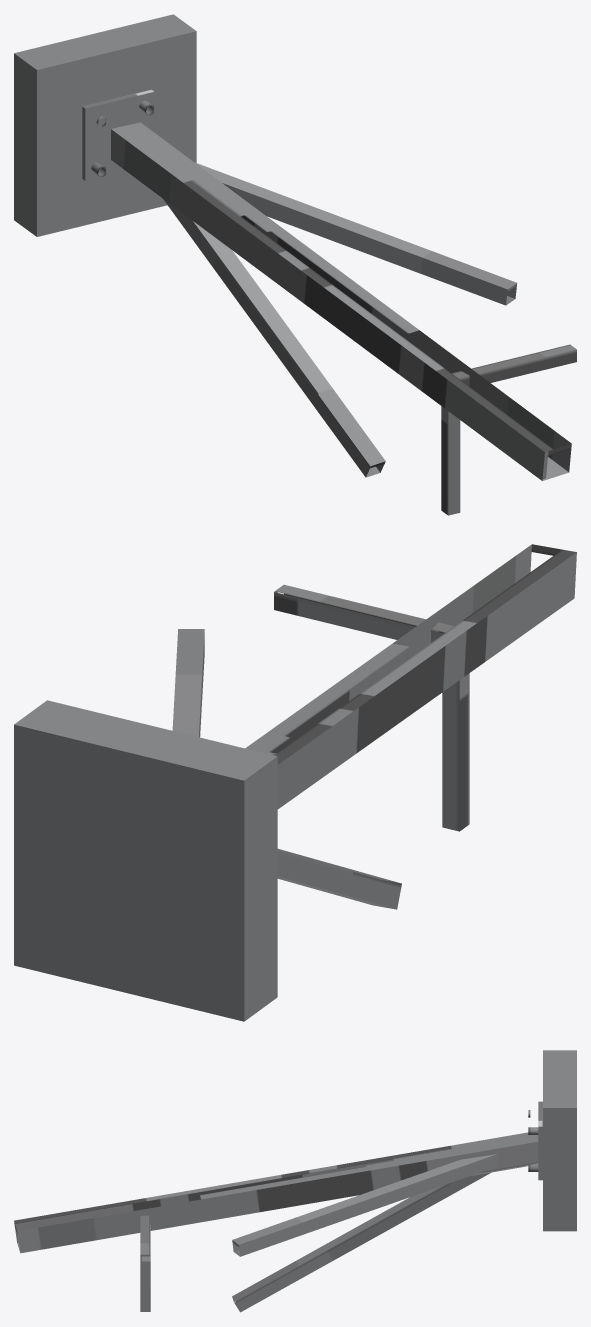
3 renders of one model, top to bottom at view 1: azimuth 30°, elevation 25°; view 2: azimuth 150°, elevation 25°; view 3: azimuth 270°, elevation 25°, orthographic. The views are drawn at different scales.
Bounding box in the file's own units: 1.03 × 1.03 × 2.48.
